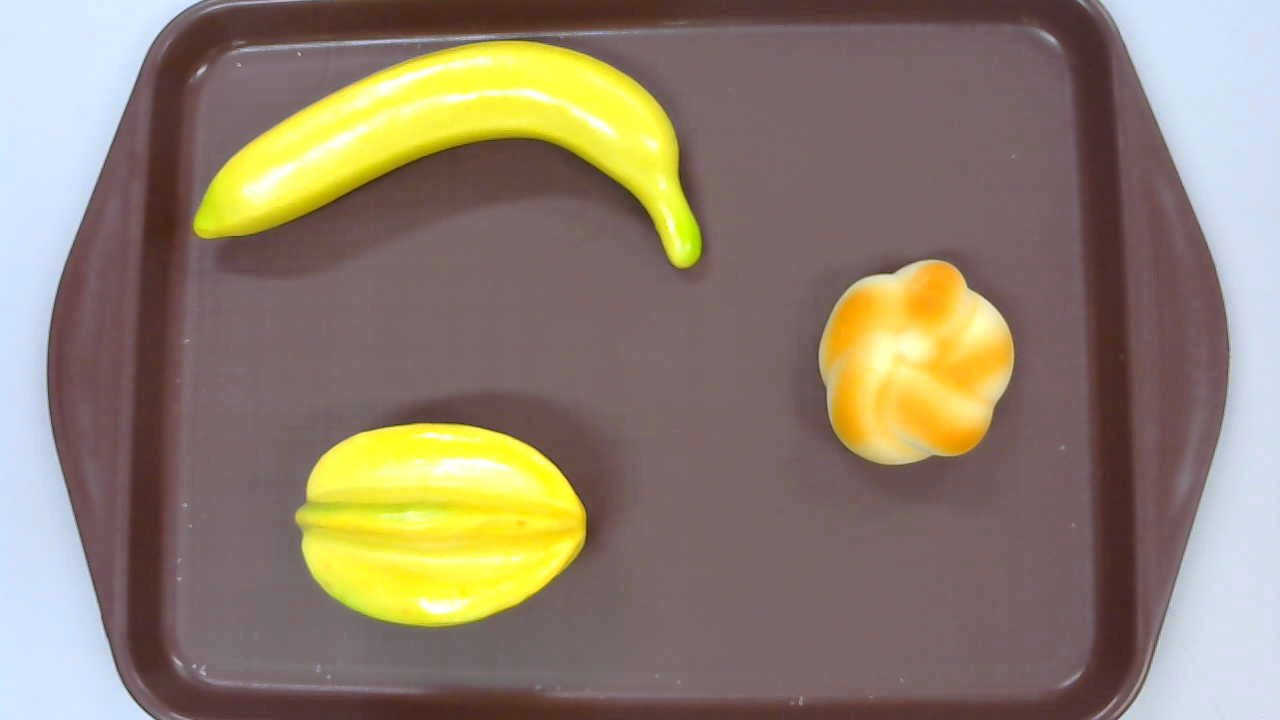banana: (191, 40, 703, 271)
star fruit: (293, 422, 588, 628)
twist bread: (818, 259, 1013, 465)
